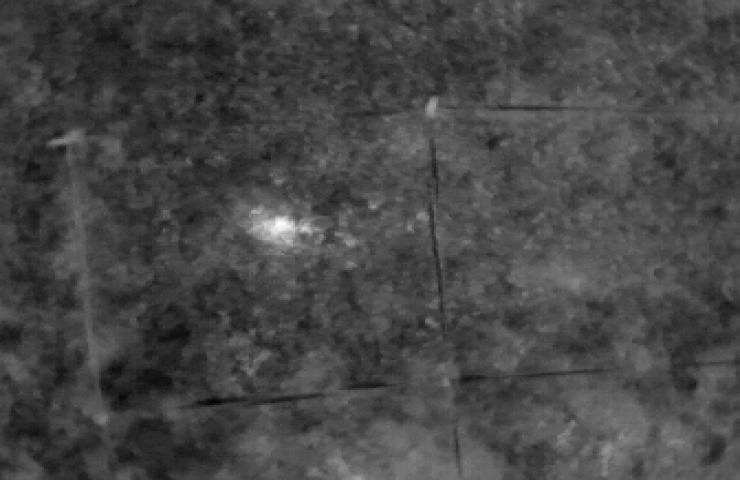landmines: (251, 210, 303, 247)
